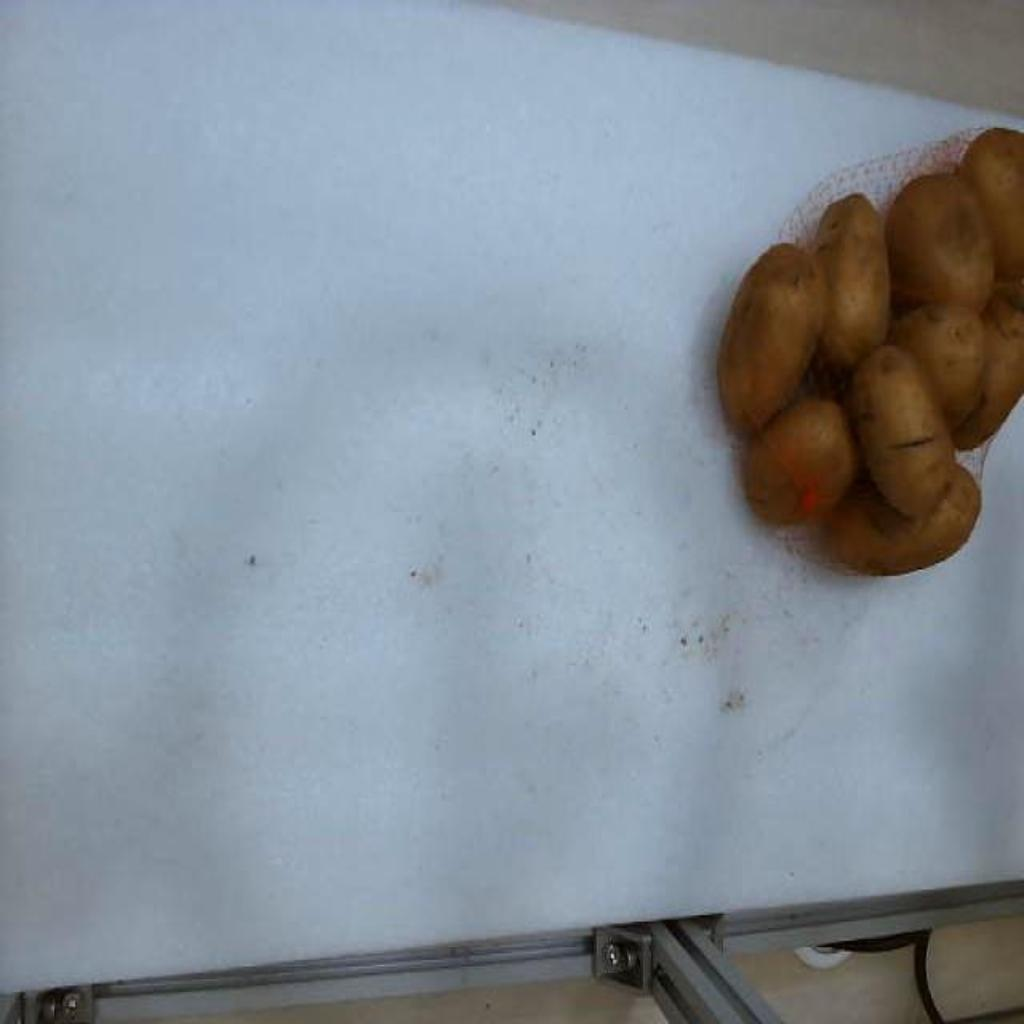potato: (718, 245, 824, 431), (850, 347, 954, 517), (828, 461, 980, 575), (886, 173, 994, 308), (746, 400, 858, 523), (816, 195, 890, 368), (890, 304, 986, 431), (954, 304, 1024, 449), (962, 128, 1024, 279)
